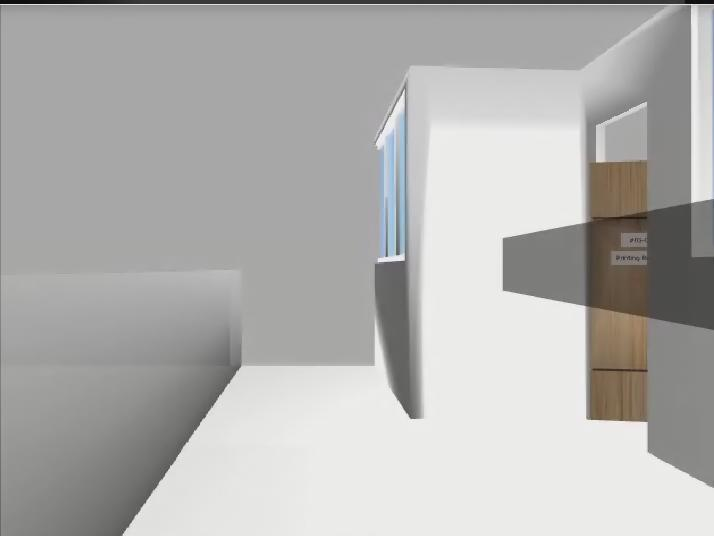door: (590, 161, 647, 419)
